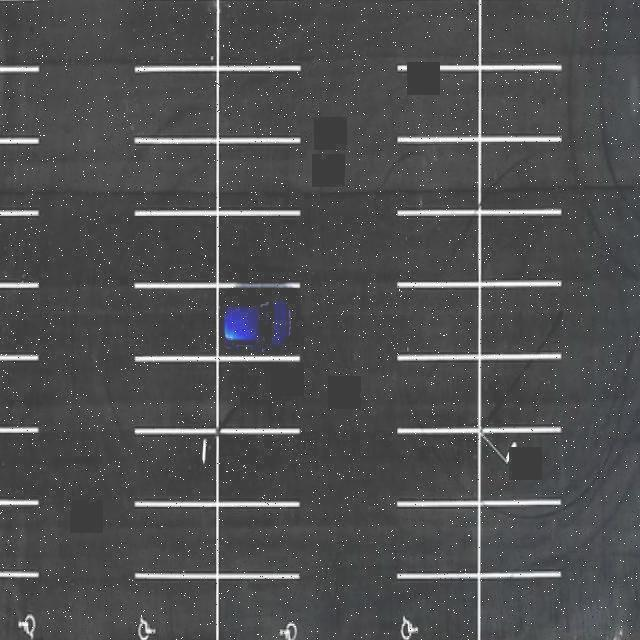space-empty: (397, 350, 483, 439), (133, 426, 222, 512), (395, 205, 482, 292), (479, 60, 563, 149), (131, 499, 220, 583), (132, 207, 220, 291), (217, 497, 303, 582), (397, 134, 482, 219), (216, 133, 300, 218), (396, 63, 483, 145), (215, 430, 304, 510), (477, 425, 561, 509), (476, 497, 558, 582), (216, 207, 300, 289), (397, 281, 483, 361), (135, 64, 221, 144), (133, 284, 219, 364), (397, 429, 482, 509), (132, 358, 222, 433), (478, 279, 560, 361), (398, 501, 482, 581), (216, 355, 300, 435), (478, 209, 560, 289), (478, 137, 562, 215), (135, 139, 219, 217), (134, 0, 220, 75), (479, 354, 559, 434), (479, 0, 561, 78), (215, 0, 300, 75), (214, 72, 300, 146), (394, 0, 481, 72), (397, 570, 482, 640), (479, 570, 559, 640), (0, 205, 44, 292), (0, 277, 42, 366), (0, 132, 42, 220), (0, 62, 42, 147), (0, 353, 43, 435), (0, 424, 40, 508), (0, 496, 40, 578), (0, 0, 41, 76)
space-occupied: (215, 281, 300, 368)
